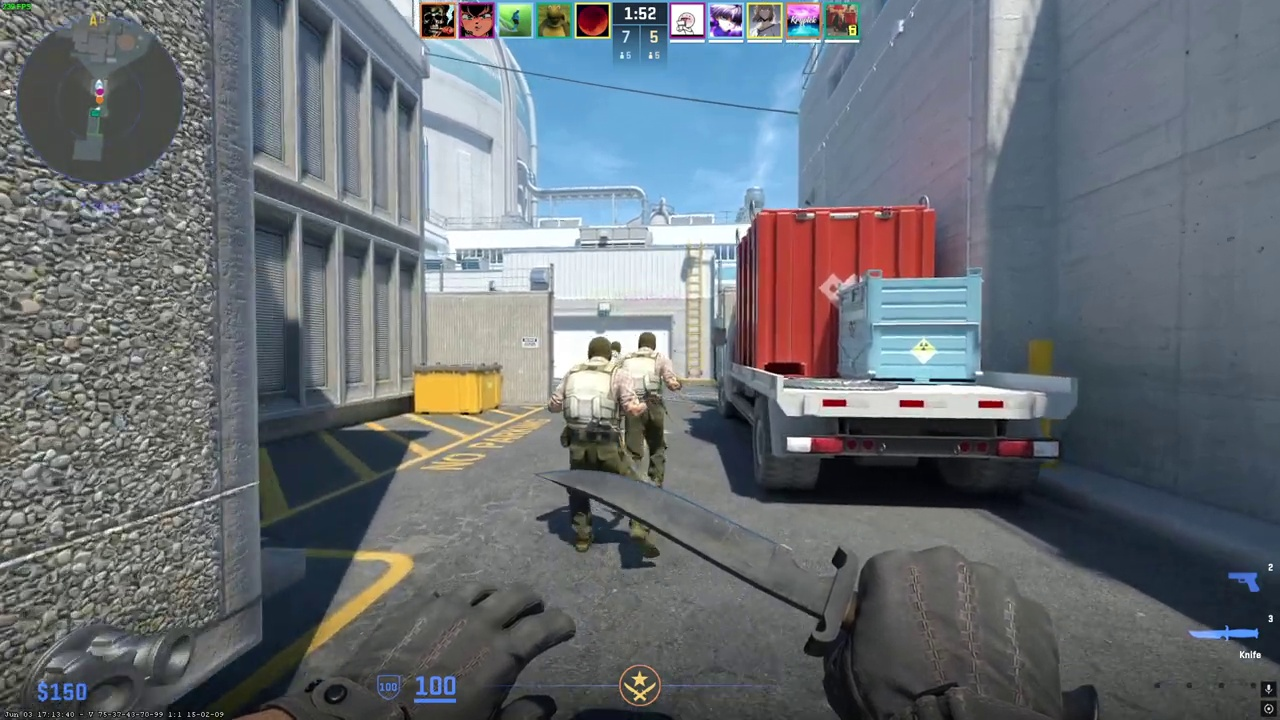Terrorist: (551, 336, 653, 567), (622, 332, 678, 496)
